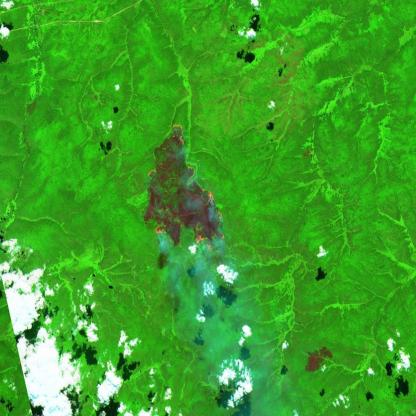fire: (139, 119, 231, 257)
